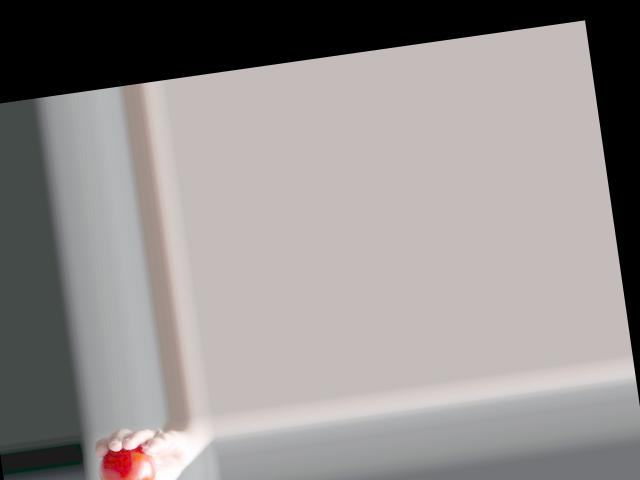tomato: (96, 443, 158, 480)
